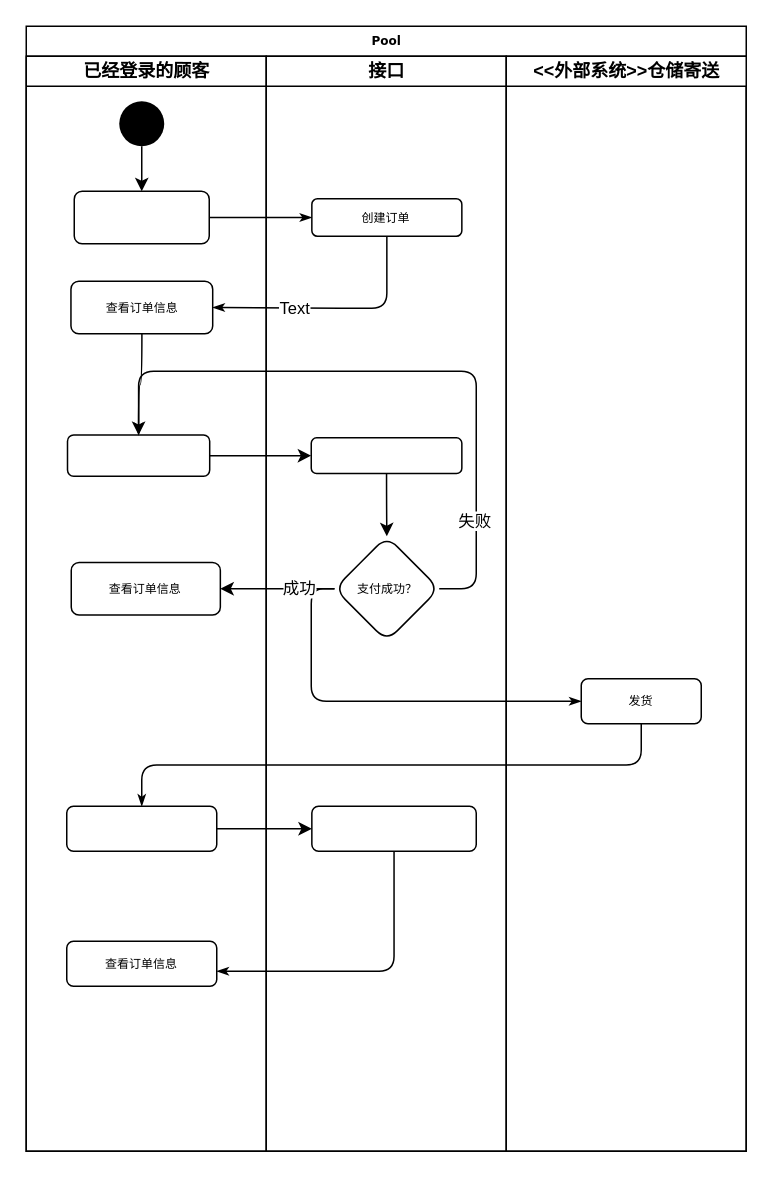
Image size: 773x1178. Some labels were removed from this diagram. Here are the shapes that lost their labels. From the top down, the centre of each, then its label:
At [141,217]: "点击购买按钮".
At [138,455]: "点击支付按钮".
At [386,455]: "查询支付结果".
At [141,828]: "点击确认收货".
At [393,828]: "修改订单状态".
